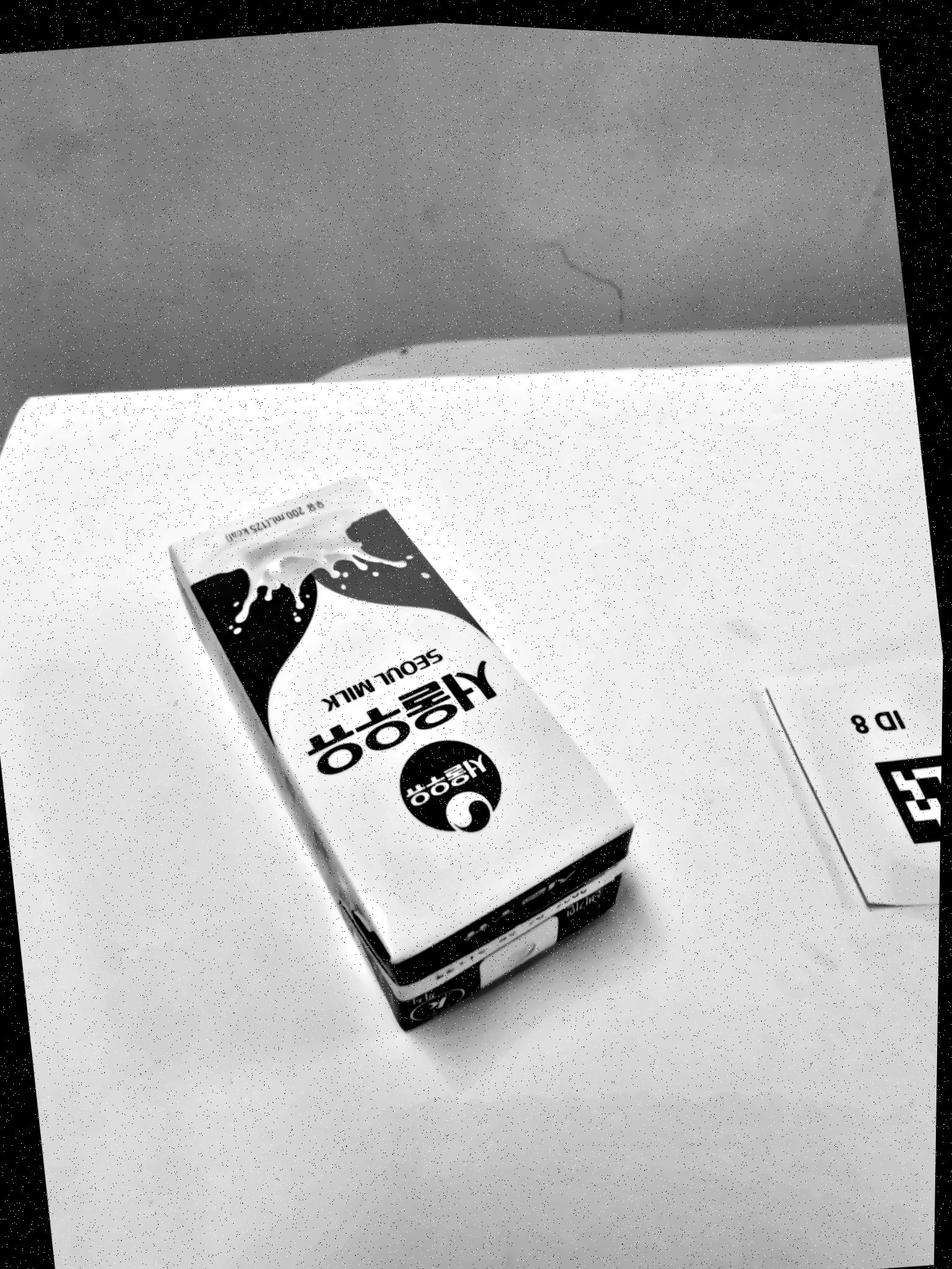milk_green: (171, 472, 636, 1034)
